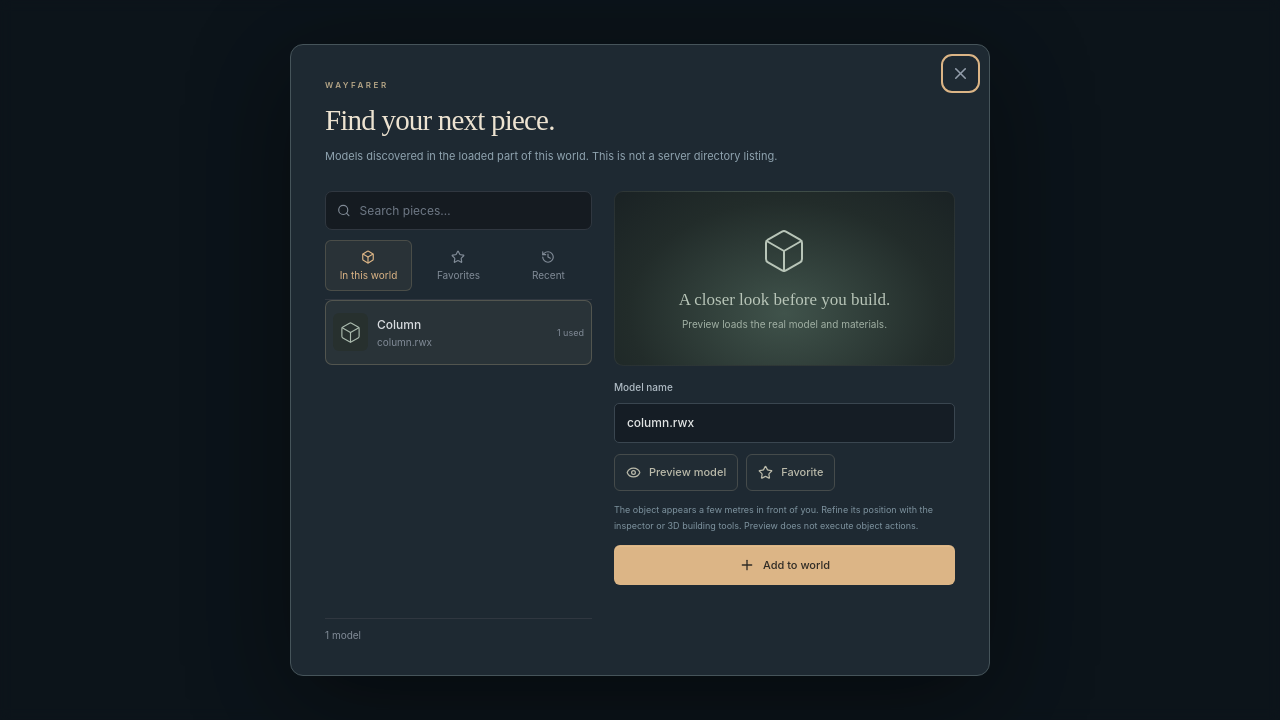
Test: model preview consent and add acknowledgements › does not record a recent or close for noncanonical acceptance false
The image size is (1280, 720).
Click the button "Add to world" at x=784, y=565, box [614,545,955,585]
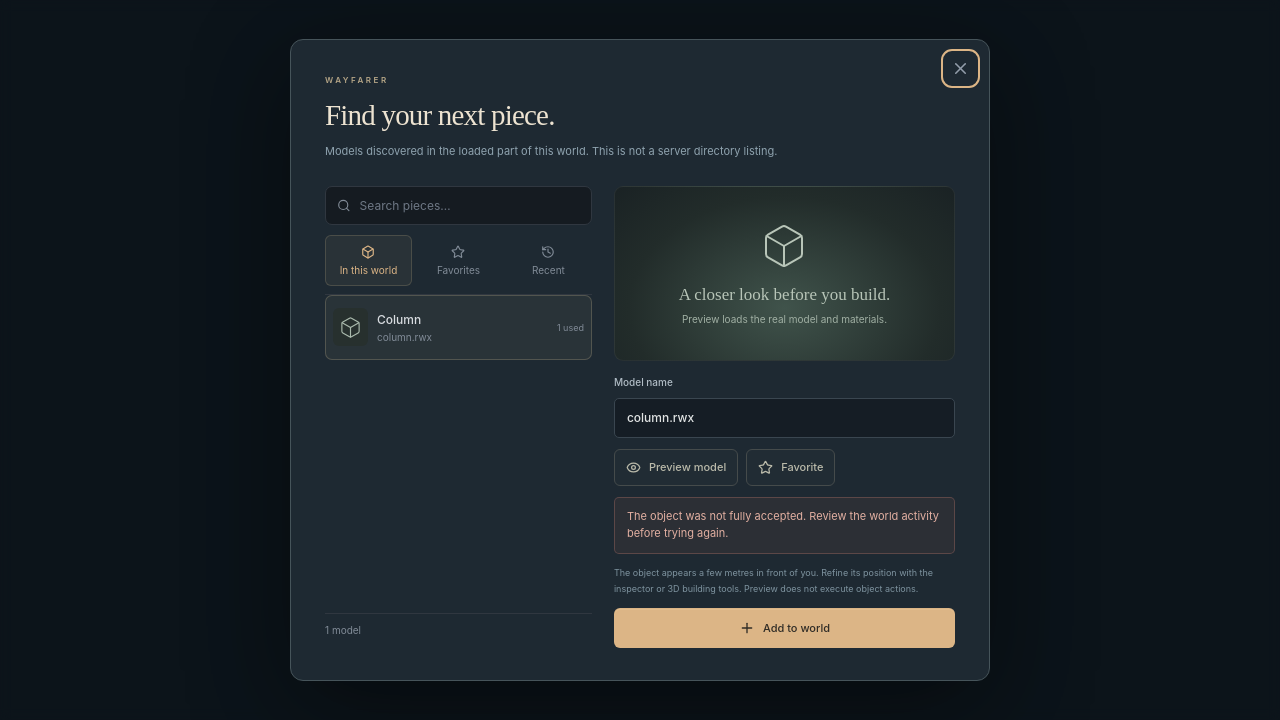
Expected: the button "Add to world" is enabled, [614,608,955,648]
Expected: the message shows "not fully accepted", [627,509,939,540]
